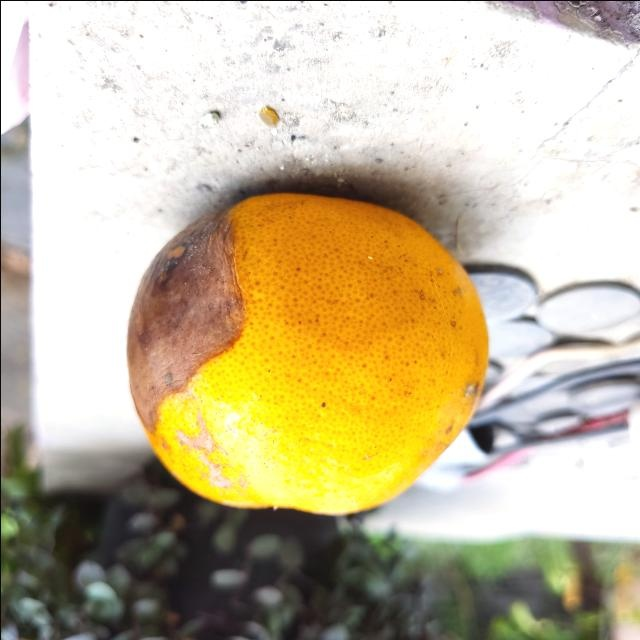agrume: (126, 193, 490, 515)
